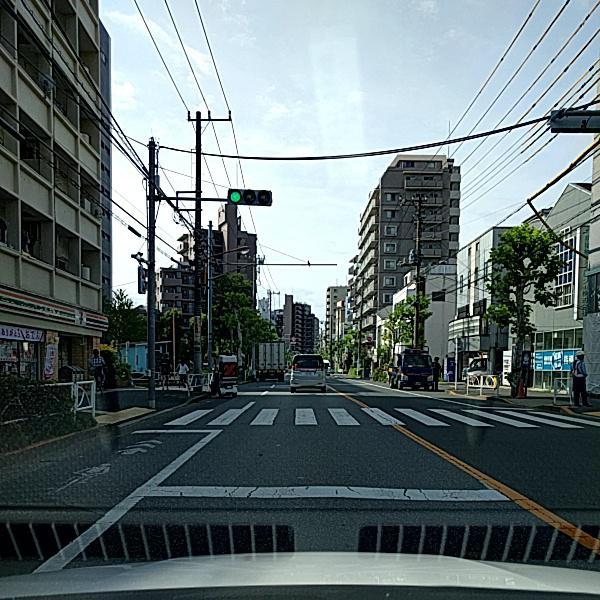D44: (389, 413, 589, 540)
